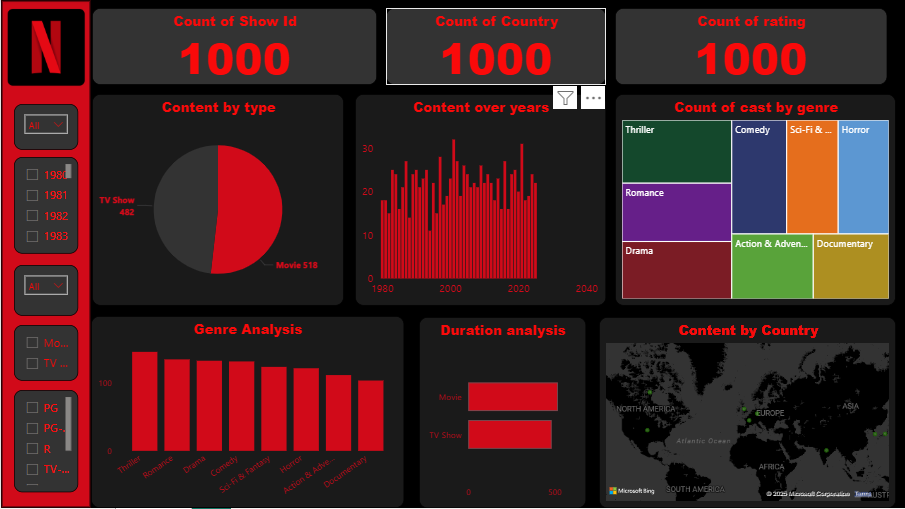

What the dashboard file says about the page in this screenshot:
{"tool":"powerbi","page":{"name":"Page 1","canvas":[1280,720],"ordinal":0},"visuals":[{"type":"pieChart","title":"Content by type","fields":{"Category":["netflix_dataset.type"],"Y":["CountNonNull(netflix_dataset.show_id)"]},"box":[129,133.2,357.2,300.5],"z":0},{"type":"card","title":"Count of Show Id","fields":{"Values":["CountNonNull(netflix_dataset.show_id)"]},"box":[129,11.3,403.9,109.1],"z":1000},{"type":"columnChart","title":"Content over years","fields":{"Category":["netflix_dataset.release_year"],"Y":["CountNonNull(netflix_dataset.show_id)"]},"box":[501.7,133.2,355.7,300.5],"z":2000},{"type":"shape","box":[0,0,127.6,720],"z":3000},{"type":"image","box":[0,0,127.6,133.2],"z":4000},{"type":"card","title":"Count of Country","fields":{"Values":["CountNonNull(netflix_dataset.country)"]},"box":[545.7,11.3,311.8,109.1],"z":5000},{"type":"barChart","title":"Duration analysis","fields":{"Category":["netflix_dataset.type"],"Y":["netflix_dataset.Count of duration average per type"]},"box":[592.4,449.3,236.7,270.7],"z":6000},{"type":"columnChart","title":"Genre Analysis","fields":{"Category":["netflix_dataset.genre"],"Y":["netflix_dataset.Count of cast average per genre"]},"box":[127.6,447.9,443.6,272.1],"z":7000},{"type":"card","title":"Count of rating","fields":{"Values":["CountNonNull(netflix_dataset.rating)"]},"box":[870.2,11.3,385.5,109.1],"z":8000},{"type":"map","title":" Content by Country\t","fields":{"Category":["netflix_dataset.country"],"Y":["CountNonNull(netflix_dataset.show_id)"]},"box":[847.6,449.3,420.9,270.7],"z":9000},{"type":"treemap","fields":{"Group":["netflix_dataset.genre"],"Values":["CountNonNull(netflix_dataset.cast)"]},"box":[870.2,133.2,398.3,300.5],"z":10000},{"type":"slicer","fields":{"Values":["netflix_dataset.country"]},"box":[18.4,147.4,90.7,65.2],"z":10001},{"type":"slicer","fields":{"Values":["netflix_dataset.release_year"]},"box":[18.4,222.5,90.7,137.5],"z":10002},{"type":"slicer","fields":{"Values":["netflix_dataset.genre"]},"box":[18.4,375.6,90.7,72.3],"z":10003},{"type":"slicer","fields":{"Values":["netflix_dataset.type"]},"box":[18.4,460.6,90.7,79.4],"z":10004},{"type":"slicer","fields":{"Values":["netflix_dataset.rating"]},"box":[18.4,552.8,90.7,144.6],"z":10005}]}

Visuals, with their boxes in screenshot pixels (x1, y1, x2, y2), scaled from the page's 1280x720 canvas onto the 905x509 screenshot:
"Content by type" pieChart: 91/94/344/307
"Count of Show Id" card: 91/8/377/85
"Content over years" columnChart: 355/94/606/307
shape: 0/0/90/508
image: 0/0/90/94
"Count of Country" card: 386/8/606/85
"Duration analysis" barChart: 419/318/586/508
"Genre Analysis" columnChart: 90/317/404/508
"Count of rating" card: 615/8/888/85
" Content by Country	" map: 599/318/897/508
treemap - netflix_dataset.genre x CountNonNull(netflix_dataset.cast): 615/94/897/307
slicer - netflix_dataset.country: 13/104/77/150
slicer - netflix_dataset.release_year: 13/157/77/255
slicer - netflix_dataset.genre: 13/266/77/317
slicer - netflix_dataset.type: 13/326/77/382
slicer - netflix_dataset.rating: 13/391/77/493
